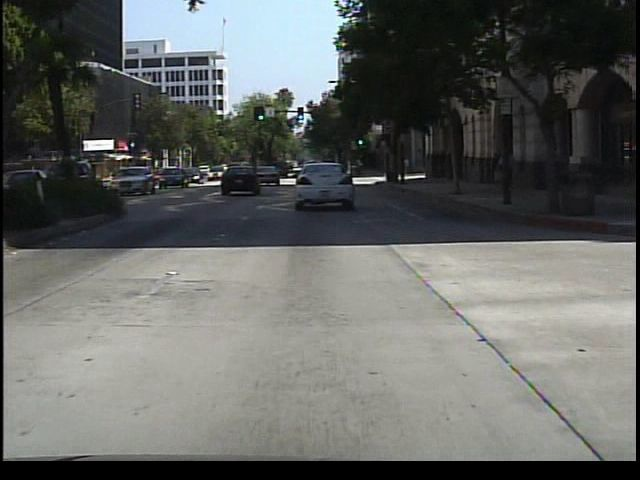person: (497, 150, 517, 202)
